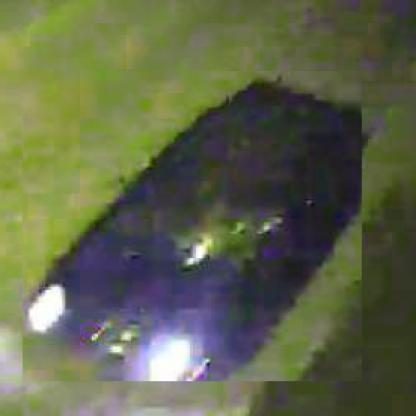car: (22, 72, 363, 384)
